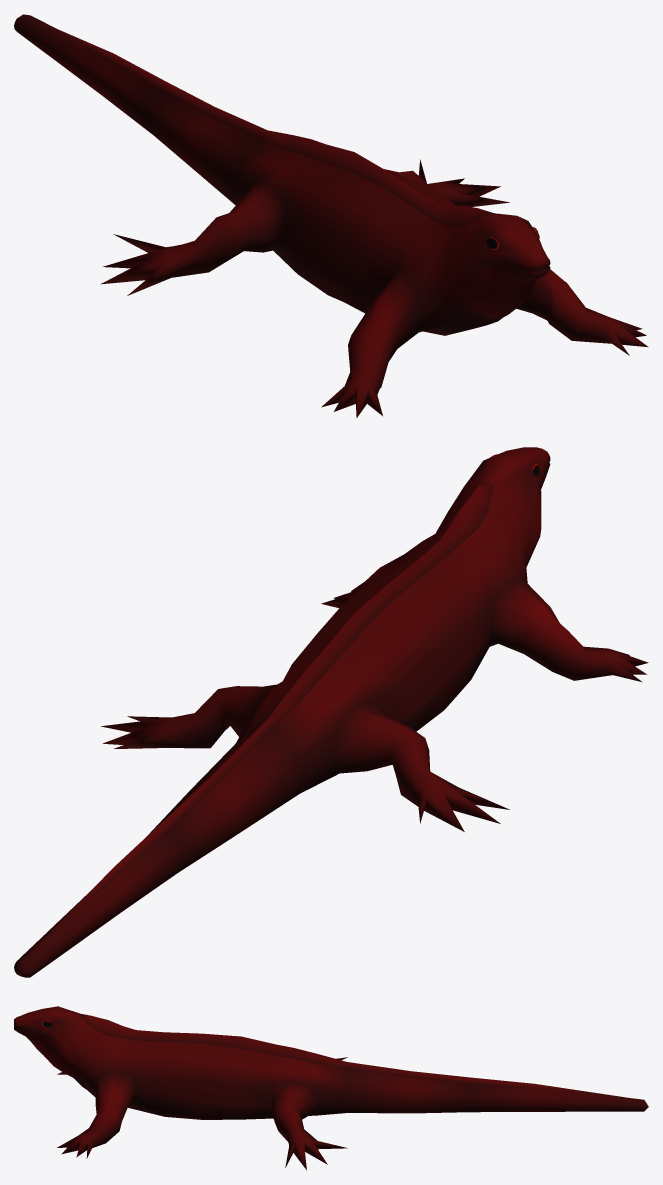
The model's file is Reptiles_RockIguana.fbx.
3 views of the same model, one above another, from view 1: azimuth 30°, elevation 25°; view 2: azimuth 150°, elevation 25°; view 3: azimuth 270°, elevation 25° (orthographic). The views are drawn at different scales.
Visible parts, largest first — view 1: base; view 2: base; view 3: base.
Part boxes in pixels (x1,y1,x2,y2): base: [14, 14, 648, 417]; base: [14, 447, 648, 977]; base: [14, 1006, 648, 1170].
Bounding box in the file's own units: 64.93 × 25.98 × 146.
